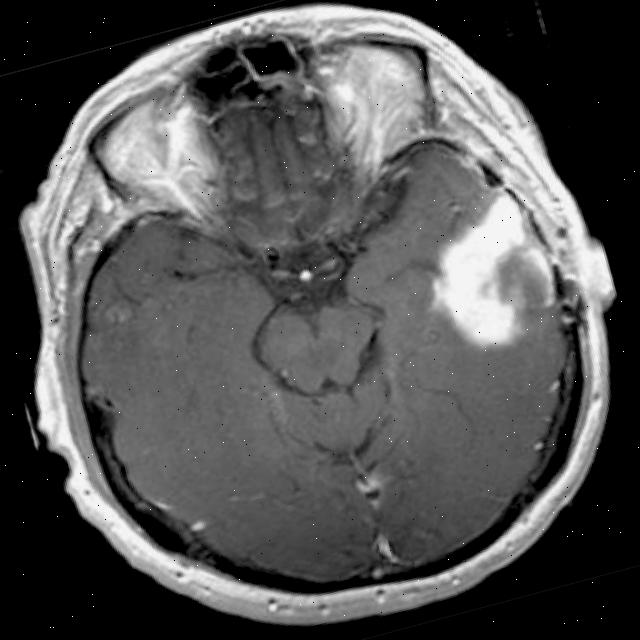tumor: (431, 187, 576, 348)
